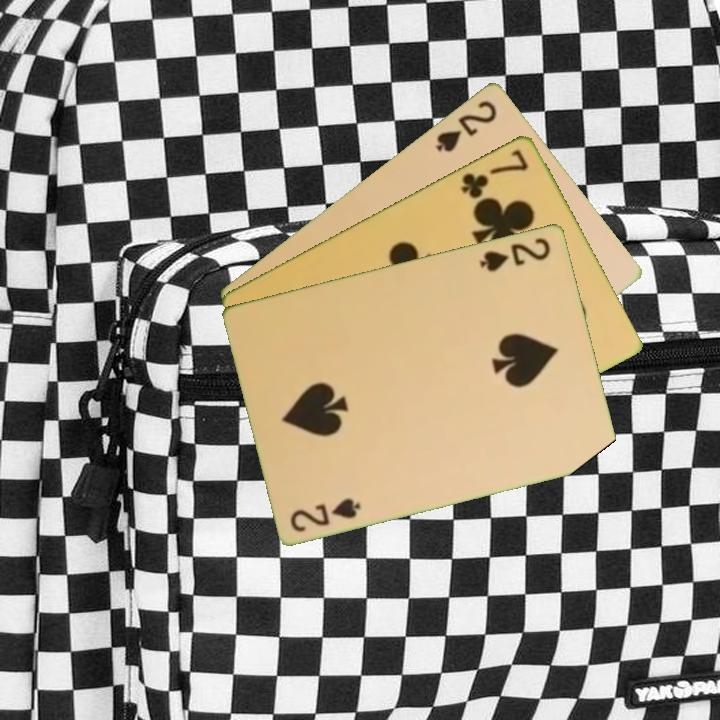2s: (432, 96, 500, 155), (476, 233, 554, 274), (287, 494, 364, 534)
7c: (458, 145, 532, 201)
